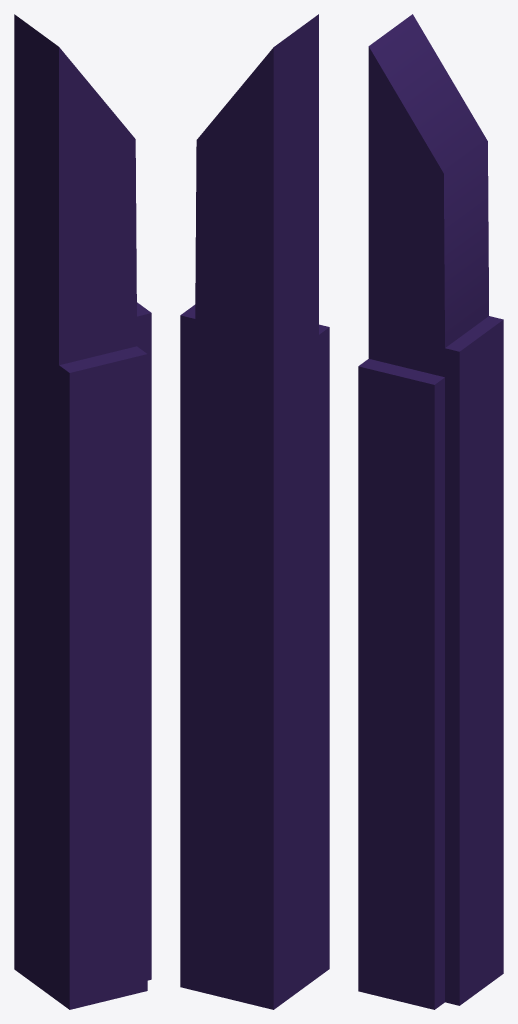
File: building5.glb
3 views of the same model, side by side, from view 1: azimuth 30°, elevation 25°; view 2: azimuth 150°, elevation 25°; view 3: azimuth 330°, elevation 25° (orthographic). The views are drawn at different scales.
Parts seen in each view (by area): view 1: building5; view 2: building5; view 3: building5.
Part boxes in pixels (left/top/right/bottom): building5: left=14, top=14, right=151, bottom=1009; building5: left=180, top=14, right=329, bottom=1009; building5: left=358, top=14, right=503, bottom=1009.
Bounding box in the file's own units: 0.0927 × 0.9129 × 0.0962.
1 material, 1 textured.
